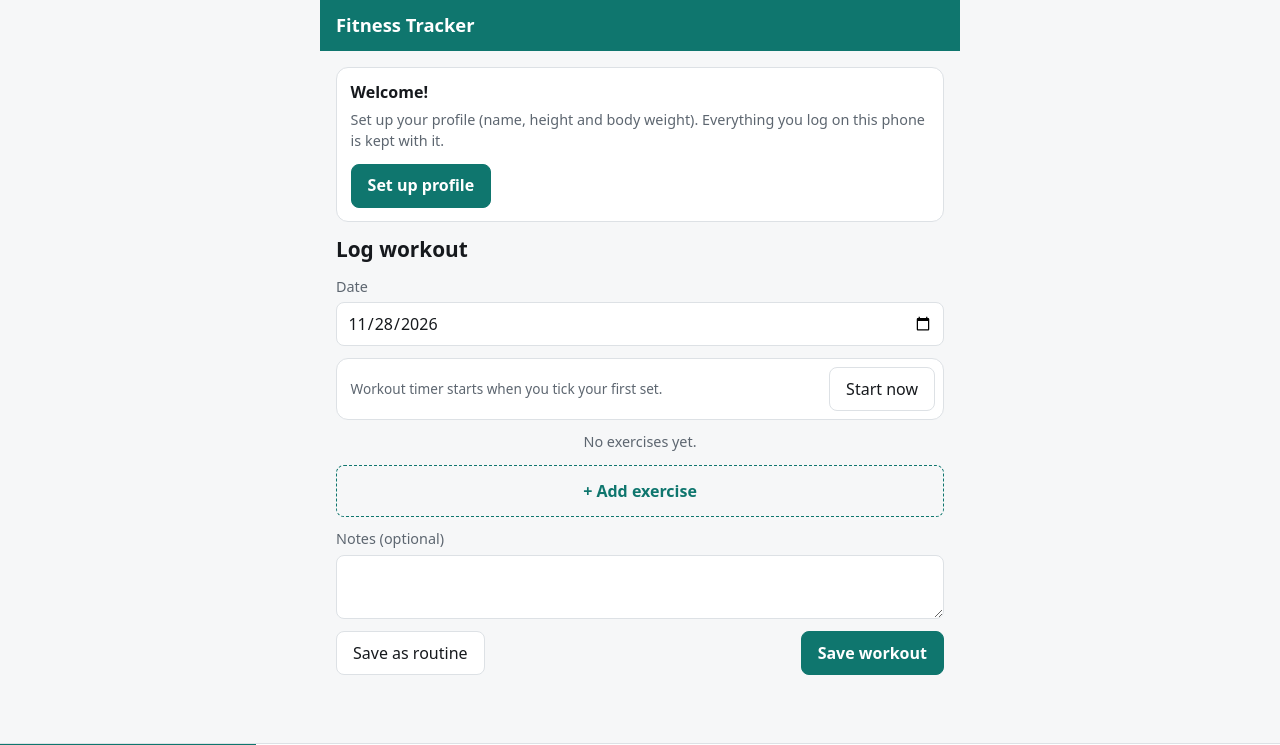
Test: App › filters the list by body part and searches within it
Click the button "+ Add exercise" at (640, 491), box [336, 465, 944, 517]
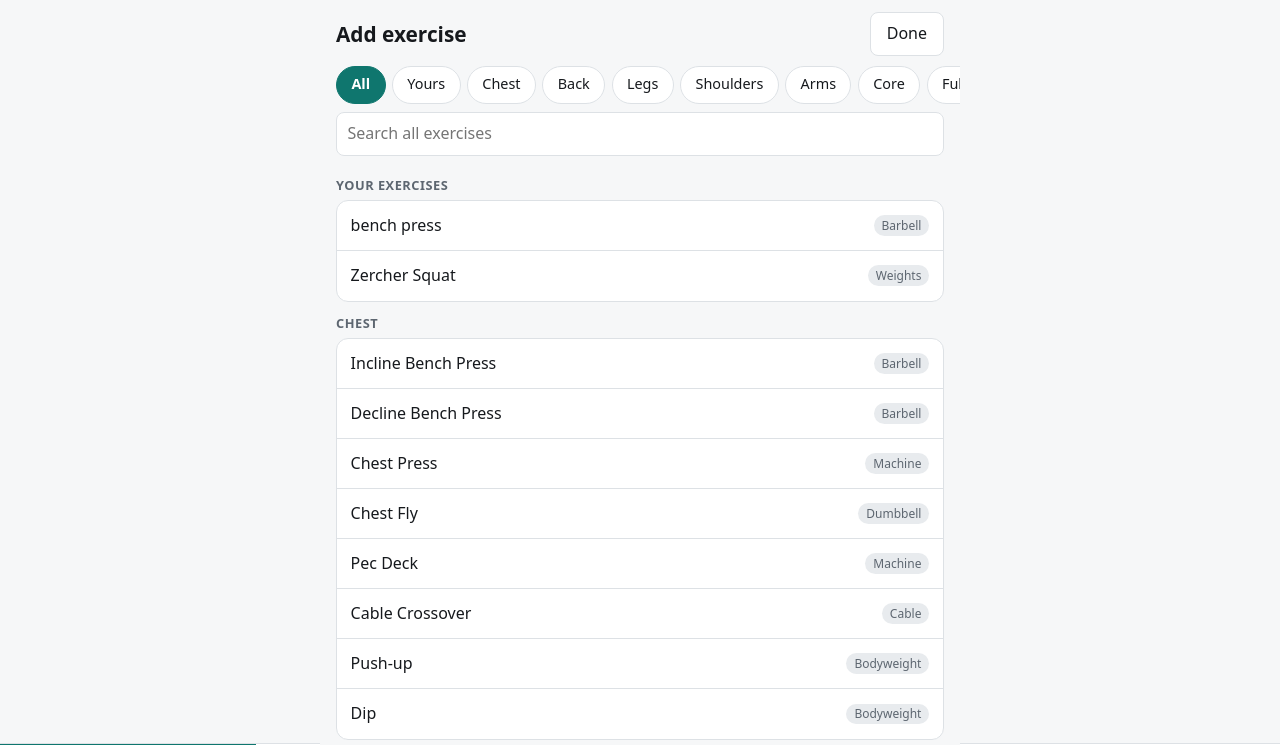
Check: the heading "Your exercises" is shown, box [336, 176, 448, 194]
Click the button "Chest" at (501, 85), box [467, 66, 536, 104]
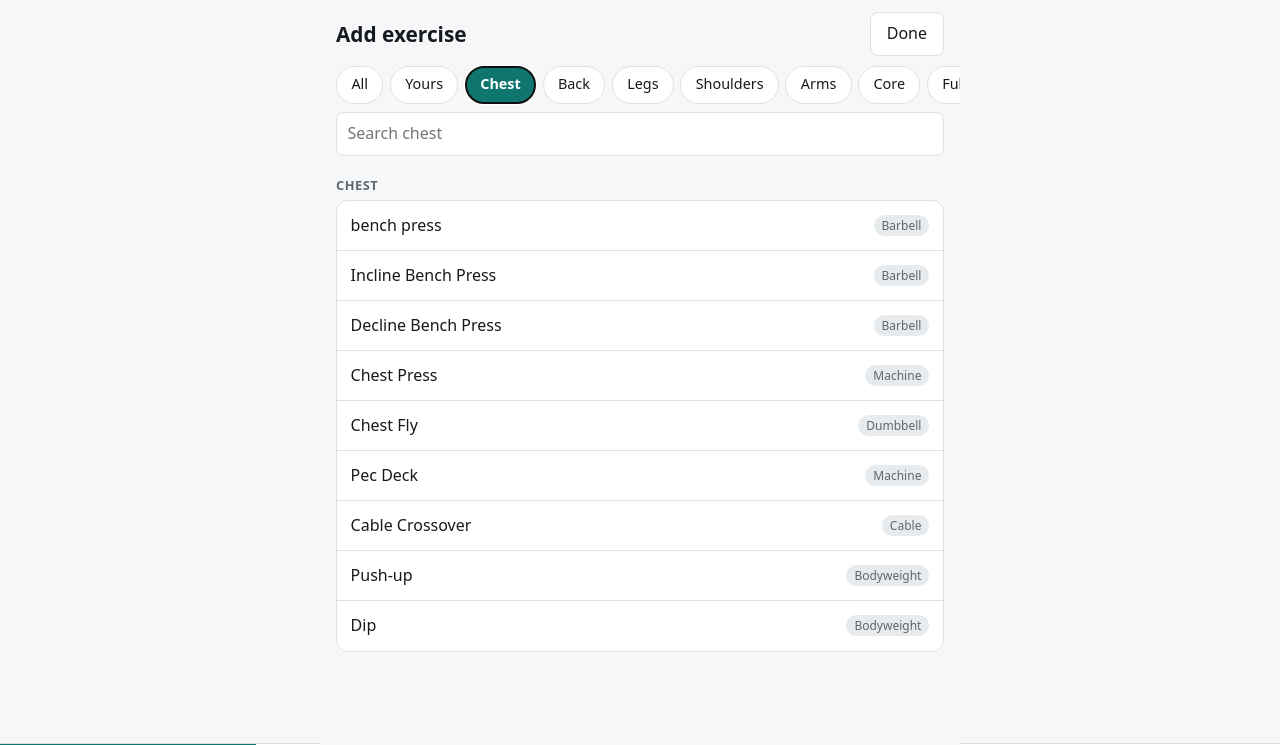
Click the button "Yours" at (424, 85), box [390, 66, 458, 104]
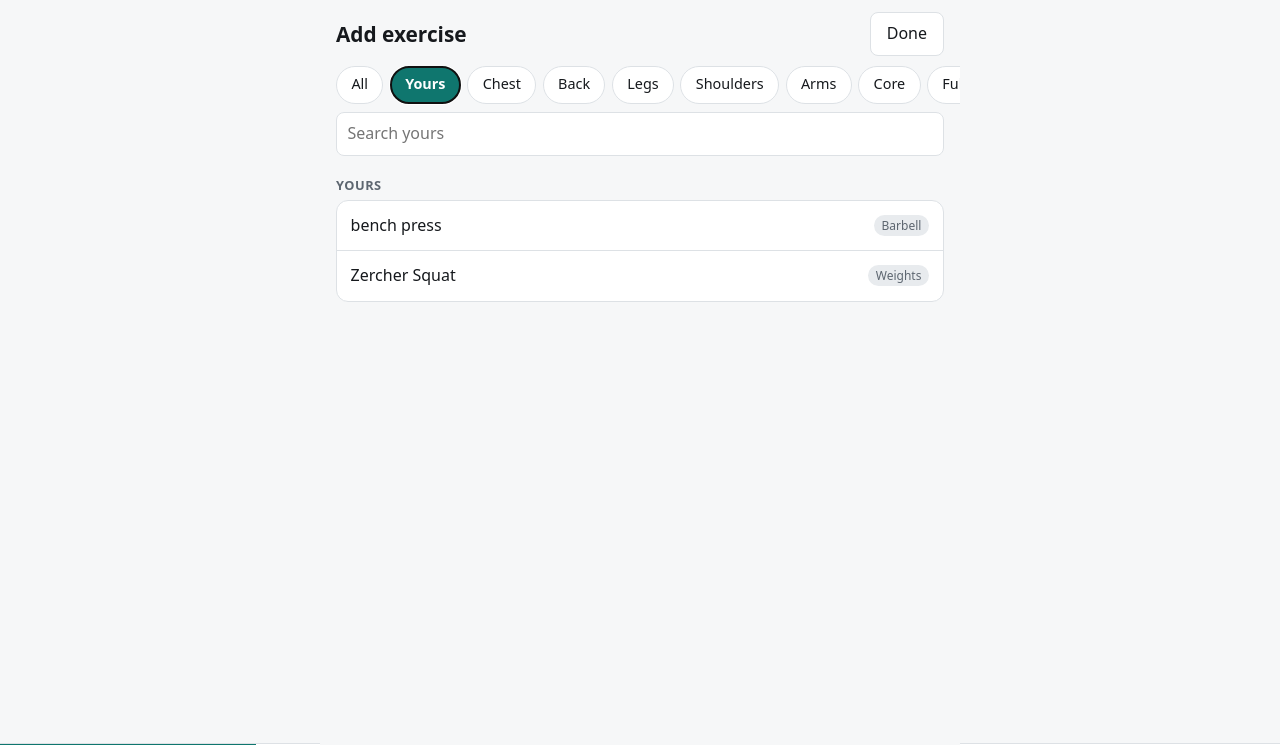
Click the button "Arms" at (819, 85), box [786, 66, 852, 104]
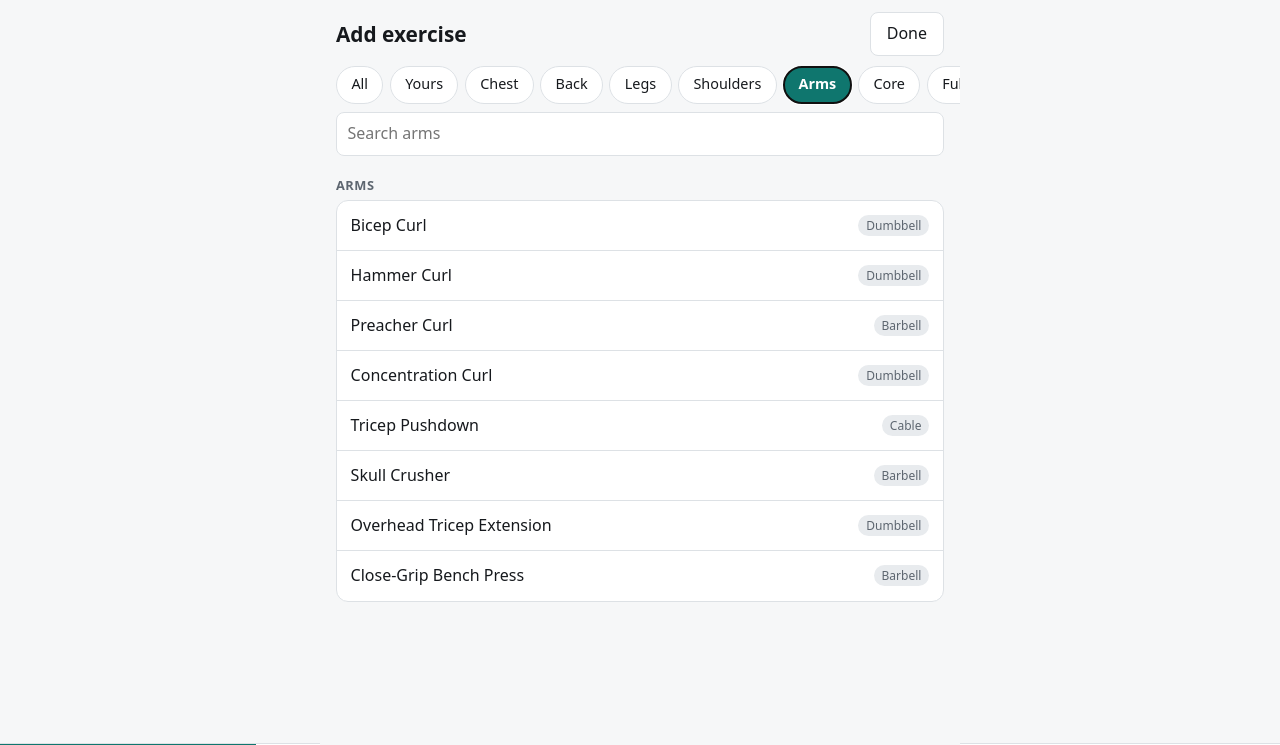
Type "curl" into the search field named "Search exercises" at (640, 134), box [336, 112, 944, 156]
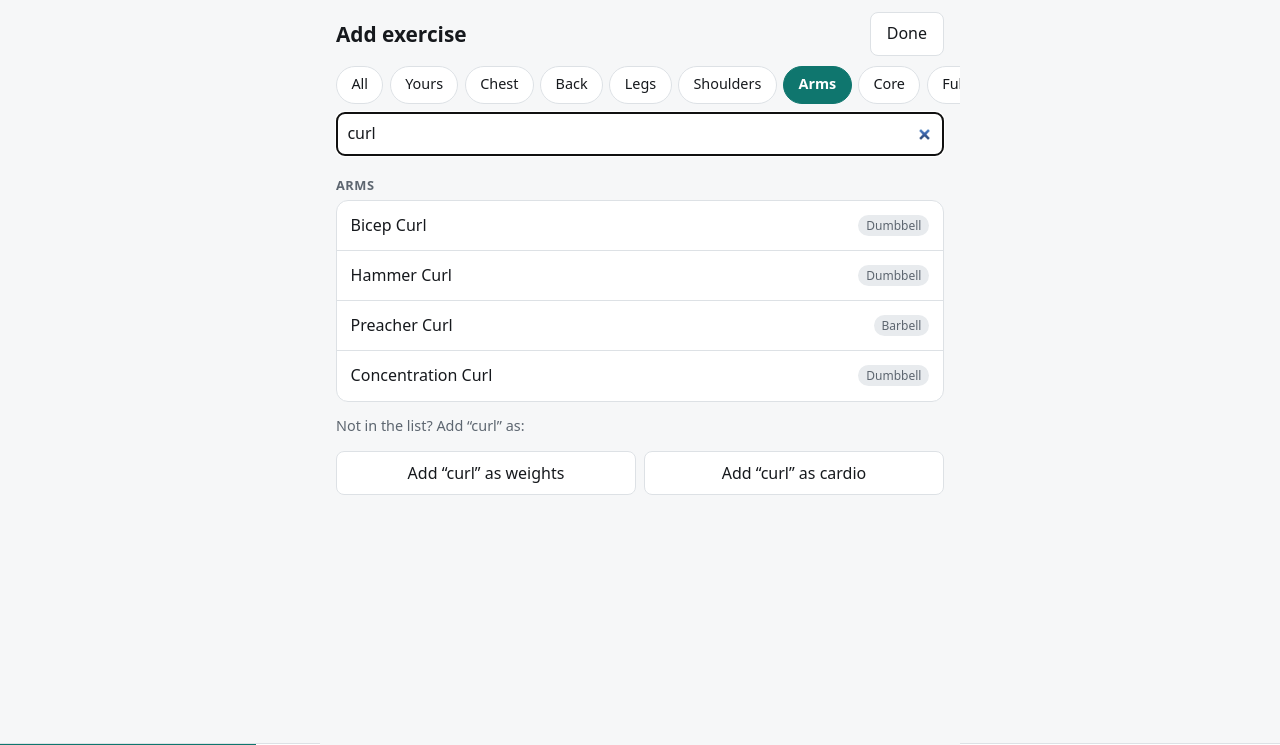
Check: the button "Add “curl” as weights" is shown, box [336, 451, 636, 495]
Click the button with aria-label "Add Hammer Curl · Dumbbell" at (401, 275), box [337, 251, 943, 301]
(page scrolled)
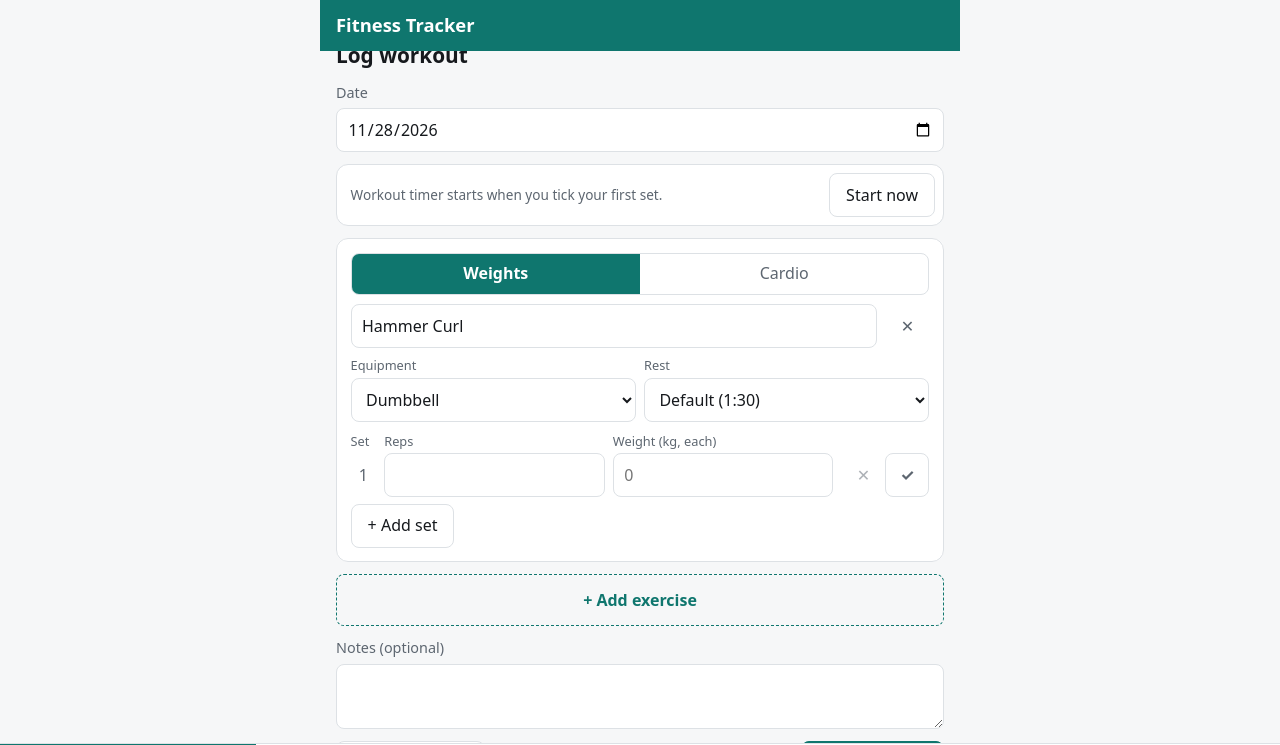
Check: the field named "Exercise 1 name" holds "Hammer Curl", box [351, 304, 877, 348]
